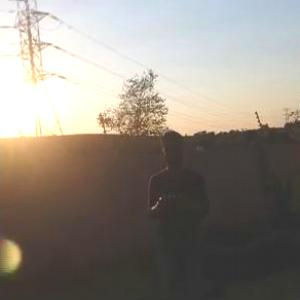follow: (143, 125, 216, 299)
